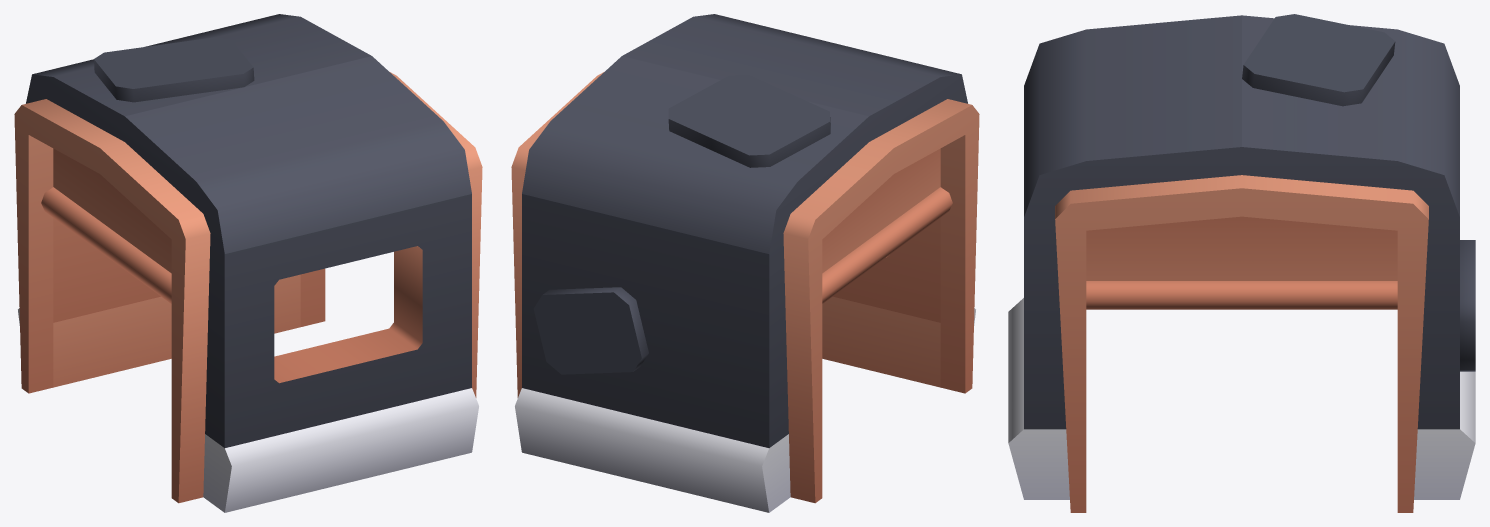
The model's file is machine.obj.
3 views of the same model, side by side, from view 1: azimuth 30°, elevation 25°; view 2: azimuth 150°, elevation 25°; view 3: azimuth 270°, elevation 25° (orthographic). The views are drawn at different scales.
Parts seen in each view (by area): view 1: machine; view 2: machine; view 3: machine.
Boxes of the visible parts, x1=… form: machine: x1=14, y1=14, x2=482, y2=512; machine: x1=511, y1=14, x2=979, y2=512; machine: x1=1008, y1=14, x2=1475, y2=512.
Size of the model in its own units: 1.2 by 1.3 by 1.5.
